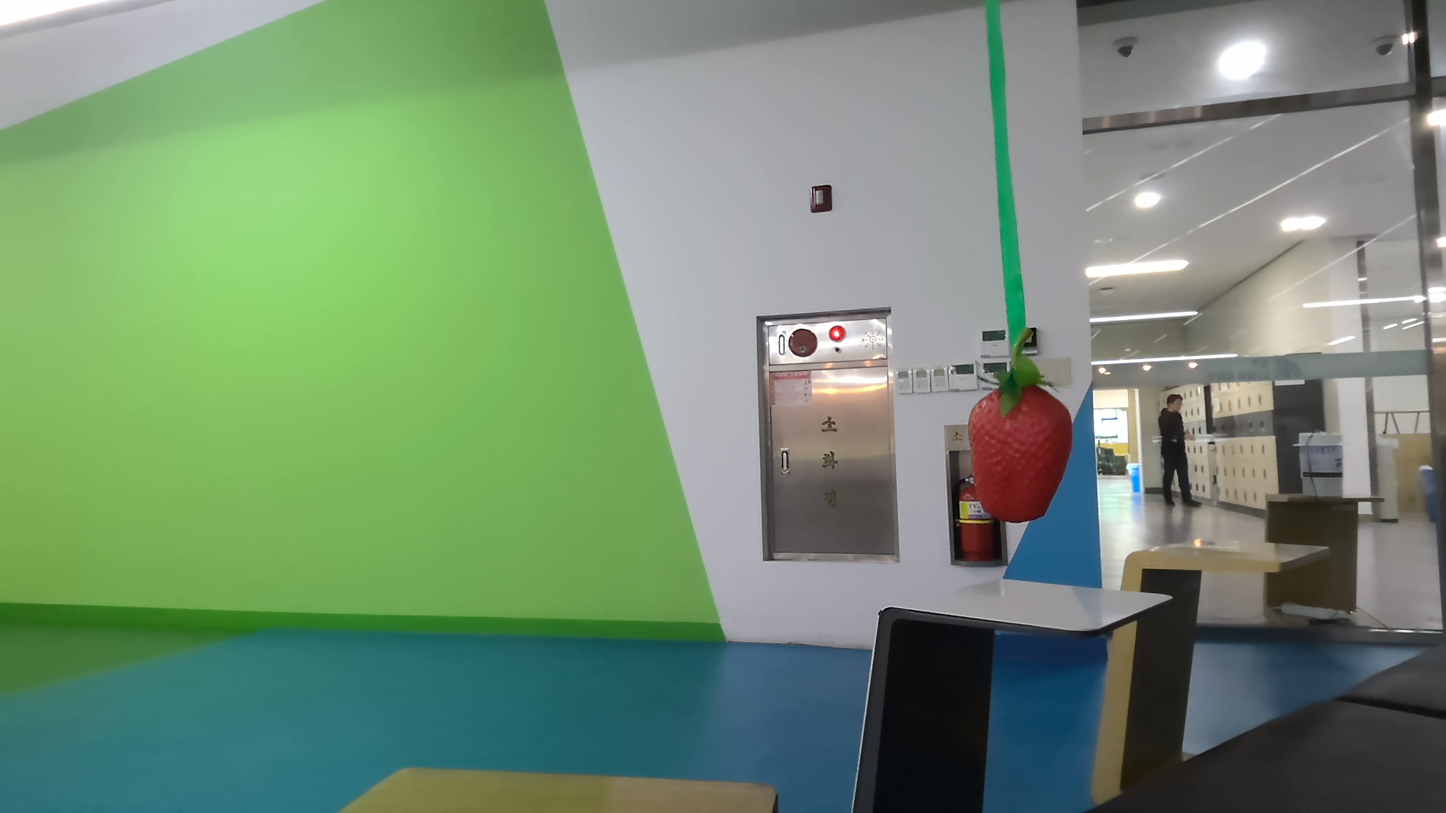strawberry: (960, 376, 1076, 530)
